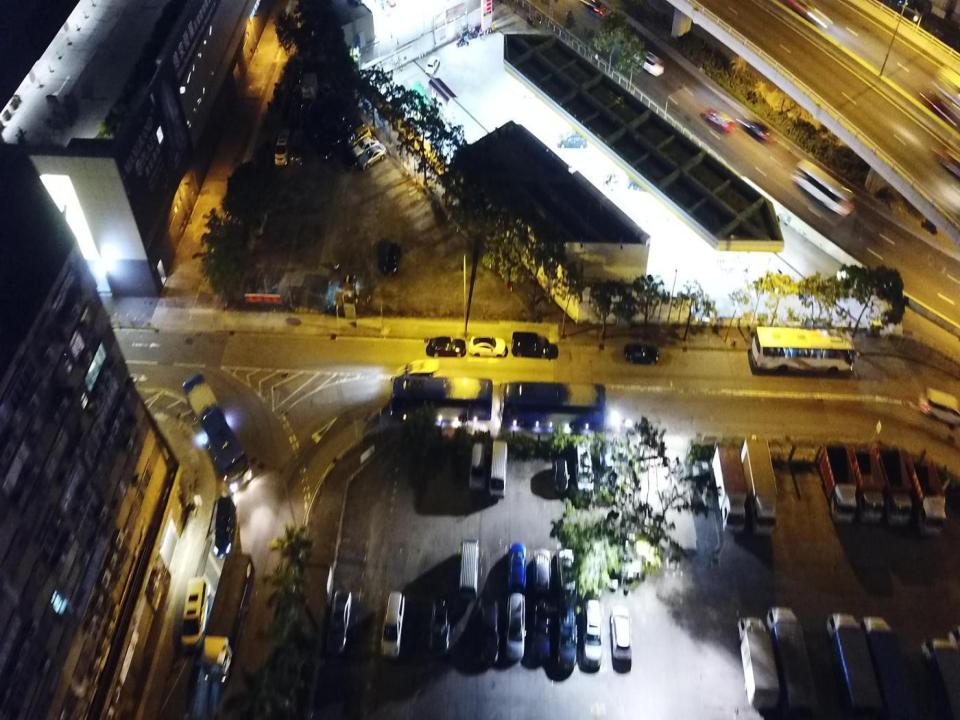bus: (183, 372, 252, 492), (499, 382, 606, 434), (750, 326, 855, 375), (390, 375, 493, 422), (792, 159, 854, 215)
car: (326, 590, 352, 654), (556, 603, 578, 671), (531, 598, 551, 662), (610, 606, 632, 662), (430, 596, 450, 656), (481, 600, 499, 662), (468, 441, 488, 492), (508, 543, 526, 592), (623, 342, 659, 366), (468, 336, 506, 358), (534, 547, 552, 593), (633, 50, 664, 76), (427, 337, 466, 357), (358, 143, 387, 169), (704, 107, 734, 131), (322, 114, 342, 146), (311, 128, 331, 160), (742, 120, 771, 142), (554, 450, 569, 492), (353, 135, 379, 158), (787, 0, 816, 20), (384, 241, 401, 274), (348, 125, 372, 148), (340, 143, 358, 171), (578, 0, 609, 16), (558, 133, 588, 148), (298, 99, 313, 128), (253, 211, 269, 235), (425, 55, 440, 74)
truck: (205, 554, 255, 682), (858, 616, 920, 719), (766, 606, 819, 718), (826, 613, 882, 719), (737, 617, 780, 710), (738, 437, 777, 534), (921, 638, 960, 718), (876, 445, 914, 527), (712, 446, 747, 533), (848, 445, 886, 524), (910, 456, 946, 539), (820, 444, 857, 523), (302, 72, 318, 103)
van: (182, 576, 210, 652), (382, 591, 406, 659), (919, 387, 960, 425), (505, 593, 527, 662), (556, 538, 578, 602), (214, 496, 237, 557), (583, 597, 602, 668), (459, 536, 479, 600), (597, 440, 619, 497), (489, 438, 508, 499), (396, 359, 439, 385), (574, 441, 594, 496), (512, 331, 550, 358), (274, 128, 291, 166), (289, 129, 306, 166)
